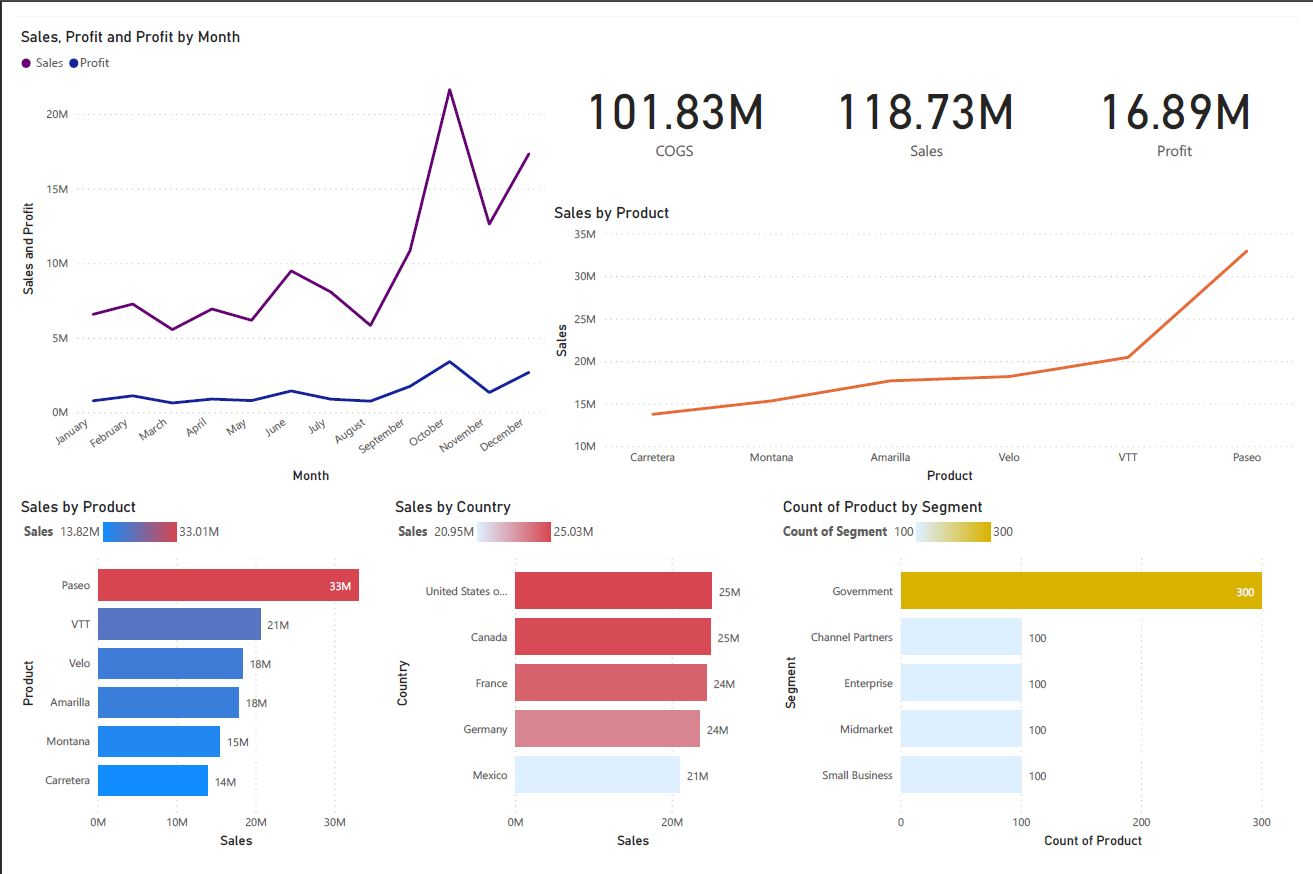

This screenshot's page, from the dashboard's own definition file:
{"tool":"powerbi","page":{"name":"Page 1","canvas":[1400,900],"ordinal":0},"visuals":[{"type":"card","fields":{"Values":["Sum(financials. Sales)"]},"box":[854.9,0,272.8,192],"z":0},{"type":"card","fields":{"Values":["Sum(financials.Profit)"]},"box":[1127.6,0,272.8,192],"z":1000},{"type":"card","fields":{"Values":["Sum(financials.COGS)"]},"box":[582.1,0,272.8,192],"z":2000},{"type":"barChart","fields":{"Y":["Sum(financials. Sales)"],"Category":["financials.Product"]},"box":[0,513.5,408.4,387],"z":3000},{"type":"barChart","fields":{"Y":["Sum(financials. Sales)"],"Category":["financials.Country"]},"box":[408.4,513.5,409.9,387],"z":4000},{"type":"clusteredBarChart","fields":{"Category":["financials.Segment"],"Y":["CountNonNull(financials.Product)"]},"box":[832,513.5,568.4,387],"z":5000},{"type":"lineChart","fields":{"Y":["Sum(financials. Sales)","Sum(financials.Profit)","Sum(financials.Profit)"],"Category":["financials.Date.Variation.Date Hierarchy.Month"]},"box":[0,0,582.1,502.9],"z":6000},{"type":"lineChart","fields":{"Y":["Sum(financials. Sales)"],"Category":["financials.Product"]},"box":[582.1,192,818.3,310.9],"z":6001}]}

Visuals, with their boxes on the page's 1400x900 design canvas (x1, y1, x2, y2). These are canvas units, not pixel positions in the 1313x874 screenshot, which may show the page scaled, cropped or inside an application window:
card - Sum(financials. Sales): detection(855, 0, 1128, 192)
card - Sum(financials.Profit): detection(1128, 0, 1400, 192)
card - Sum(financials.COGS): detection(582, 0, 855, 192)
barChart - Sum(financials. Sales) x financials.Product: detection(0, 514, 408, 900)
barChart - Sum(financials. Sales) x financials.Country: detection(408, 514, 818, 900)
clusteredBarChart - financials.Segment x CountNonNull(financials.Product): detection(832, 514, 1400, 900)
lineChart - Sum(financials. Sales) x Sum(financials.Profit): detection(0, 0, 582, 503)
lineChart - Sum(financials. Sales) x financials.Product: detection(582, 192, 1400, 503)
